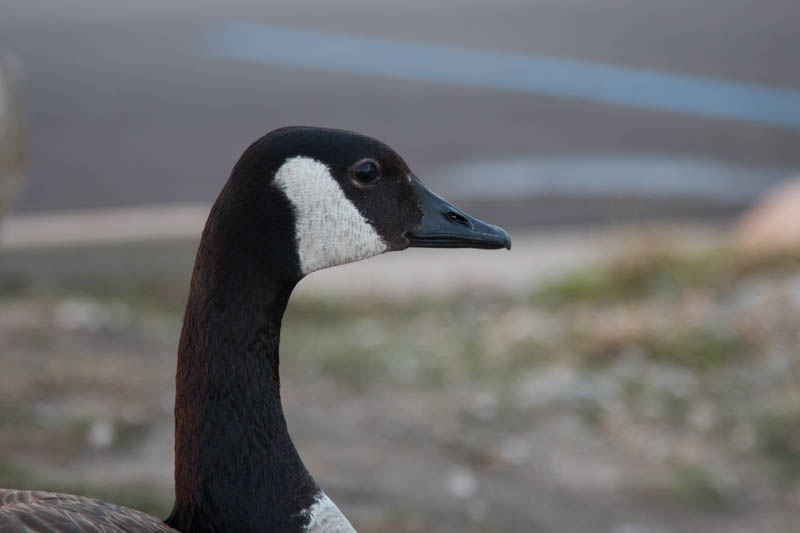goose-head: (194, 125, 514, 276)
